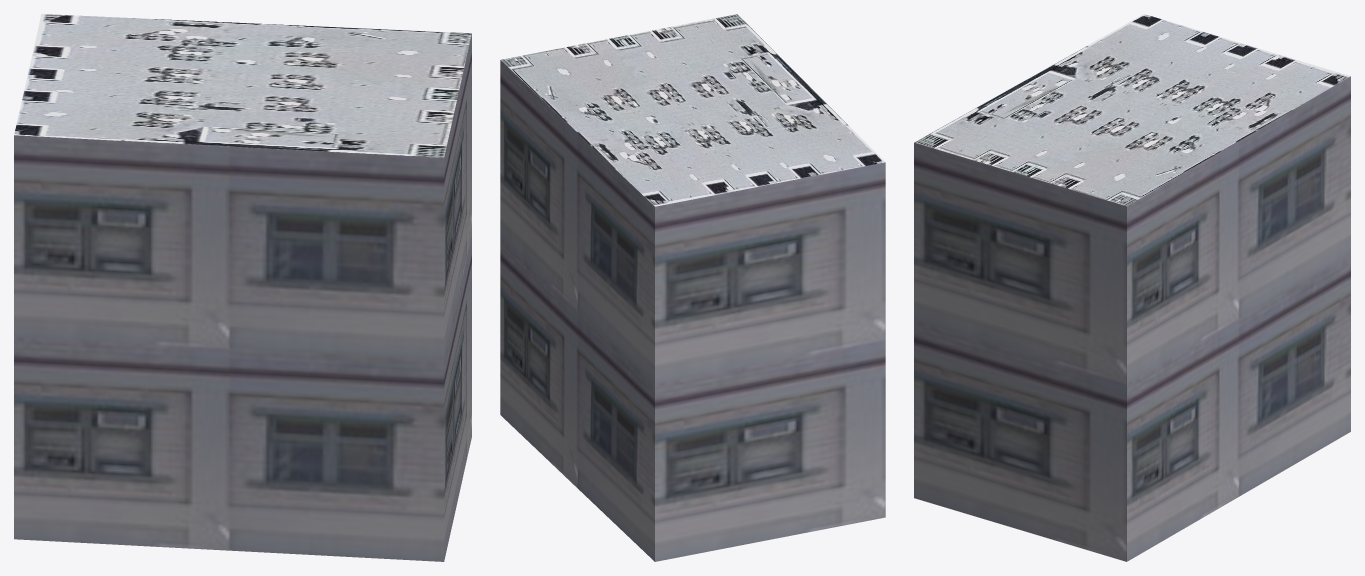
The model's file is ResTex__5211.fbx.
3 renders of one model, left to right at view 1: azimuth 30°, elevation 25°; view 2: azimuth 150°, elevation 25°; view 3: azimuth 270°, elevation 25°, orthographic. The views are drawn at different scales.
Visible parts, largest first — view 1: CityEngineMaterial_1_m, CityEngineMaterial_8_m; view 2: CityEngineMaterial_1_m, CityEngineMaterial_8_m; view 3: CityEngineMaterial_1_m, CityEngineMaterial_8_m.
Part boxes in pixels (x1,y1,x2,y2): CityEngineMaterial_1_m: (14, 34, 471, 561); CityEngineMaterial_8_m: (14, 14, 471, 157); CityEngineMaterial_1_m: (500, 60, 885, 561); CityEngineMaterial_8_m: (501, 14, 884, 206); CityEngineMaterial_1_m: (914, 76, 1350, 561); CityEngineMaterial_8_m: (914, 14, 1350, 206).
Size of the model in its own units: 6.96 by 6 by 6.68.
Materials: 2 (2 with a texture image).
